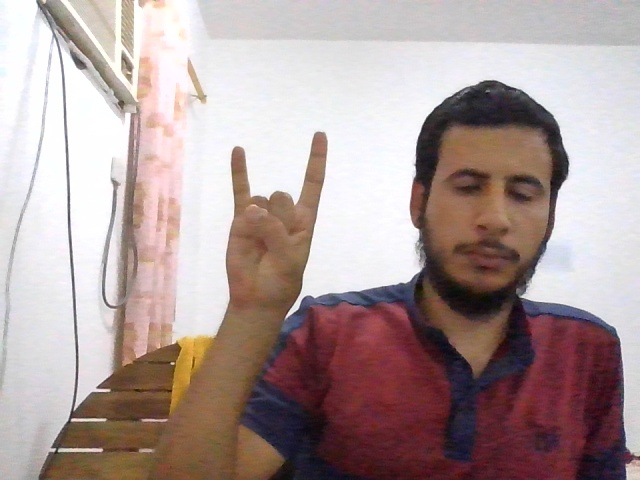Two: (226, 131, 327, 304)
